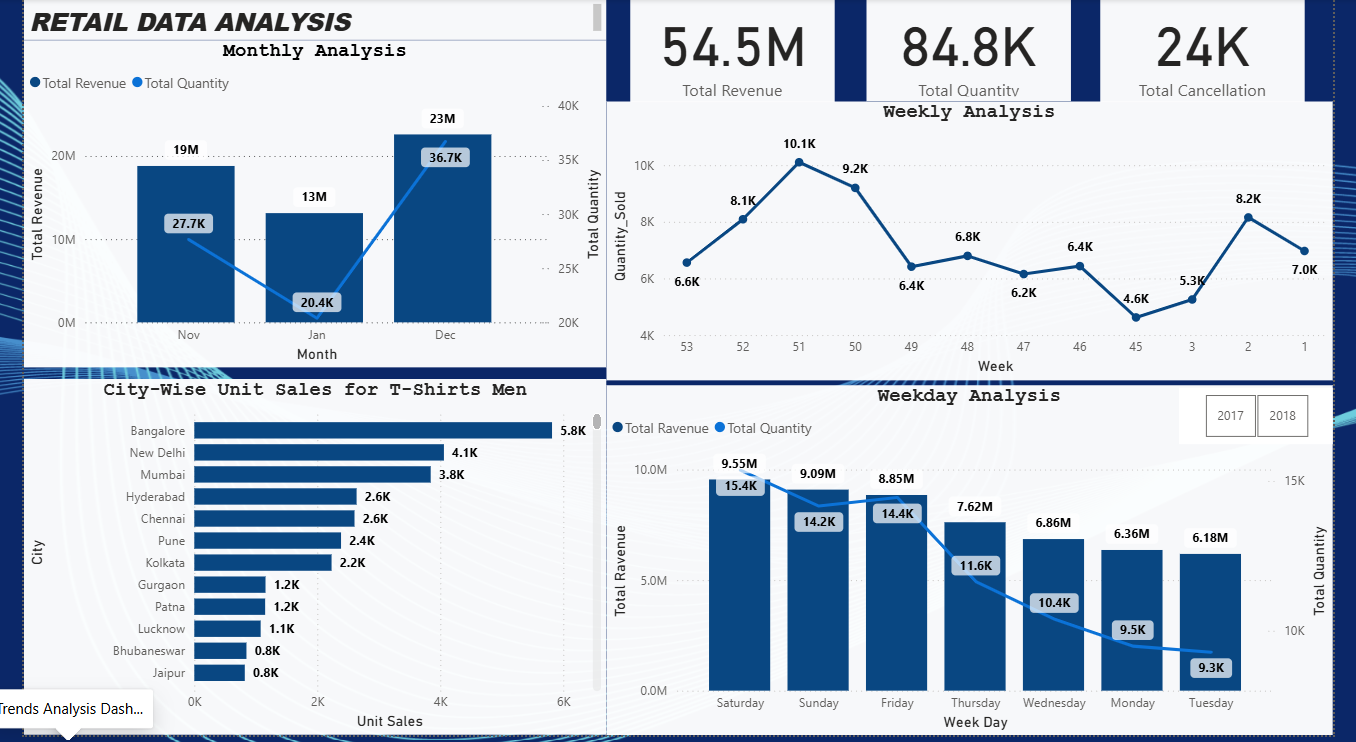

What the dashboard file says about the page in this screenshot:
{"tool":"powerbi","page":{"name":"Trends Analysis Dash...","canvas":[1280,720],"ordinal":0},"visuals":[{"type":"card","fields":{"Values":["Sum(Sales Raw.Revenue)"]},"box":[593.4,0,200.3,100.8],"z":0},{"type":"card","fields":{"Values":["Sum(Sales Raw.Units)"]},"box":[824.7,0,200.3,100.2],"z":1000},{"type":"card","fields":{"Values":["Sum(Sales Raw.Cancelled_Units)"]},"box":[1052.4,0,200.3,100.8],"z":2000},{"type":"lineStackedColumnComboChart","title":"Monthly Analysis","fields":{"Category":["Sales Raw.Month"],"Y":["Sum(Sales Raw.Revenue)"],"Y2":["Sum(Sales Raw.Units)"]},"box":[0,39.8,569.7,319.7],"z":3000},{"type":"lineChart","title":"Weekly Analysis","fields":{"Category":["Sales Raw.Week"],"Y":["Sum(Sales Raw.Units)"]},"box":[570,100,710,272.5],"z":4000},{"type":"lineClusteredColumnComboChart","title":"Weekday Analysis","fields":{"Category":["Sales Raw.OrderDayOfWeek"],"Y":["Sum(Sales Raw.Revenue)"],"Y2":["Sum(Sales Raw.Units)"]},"box":[570,377.5,710,342.5],"z":5000},{"type":"barChart","title":"City-Wise Unit Sales for T-Shirts Men","fields":{"Category":["Mod3_Raw_CityTier_v0 1.City"],"Series":["Mod3_Raw_ProductMap_v0 1.ProductGroup"],"Y":["Sum(Sales Raw.Units)"]},"box":[0,371.9,569.7,348.3],"z":6000},{"type":"slicer","fields":{"Values":["Sales Raw.Year"]},"box":[1130,380,150,55],"z":7000},{"type":"textbox","box":[0,0,569.7,39.8],"z":8000}]}

Visuals, with their boxes on the page's 1280x720 design canvas (x1, y1, x2, y2). These are canvas units, not pixel positions in the 1356x742 screenshot, which may show the page scaled, cropped or inside an application window:
card - Sum(Sales Raw.Revenue): 593, 0, 794, 101
card - Sum(Sales Raw.Units): 825, 0, 1025, 100
card - Sum(Sales Raw.Cancelled_Units): 1052, 0, 1253, 101
"Monthly Analysis" lineStackedColumnComboChart: 0, 40, 570, 360
"Weekly Analysis" lineChart: 570, 100, 1280, 372
"Weekday Analysis" lineClusteredColumnComboChart: 570, 378, 1280, 720
"City-Wise Unit Sales for T-Shirts Men" barChart: 0, 372, 570, 720
slicer - Sales Raw.Year: 1130, 380, 1280, 435
textbox: 0, 0, 570, 40
